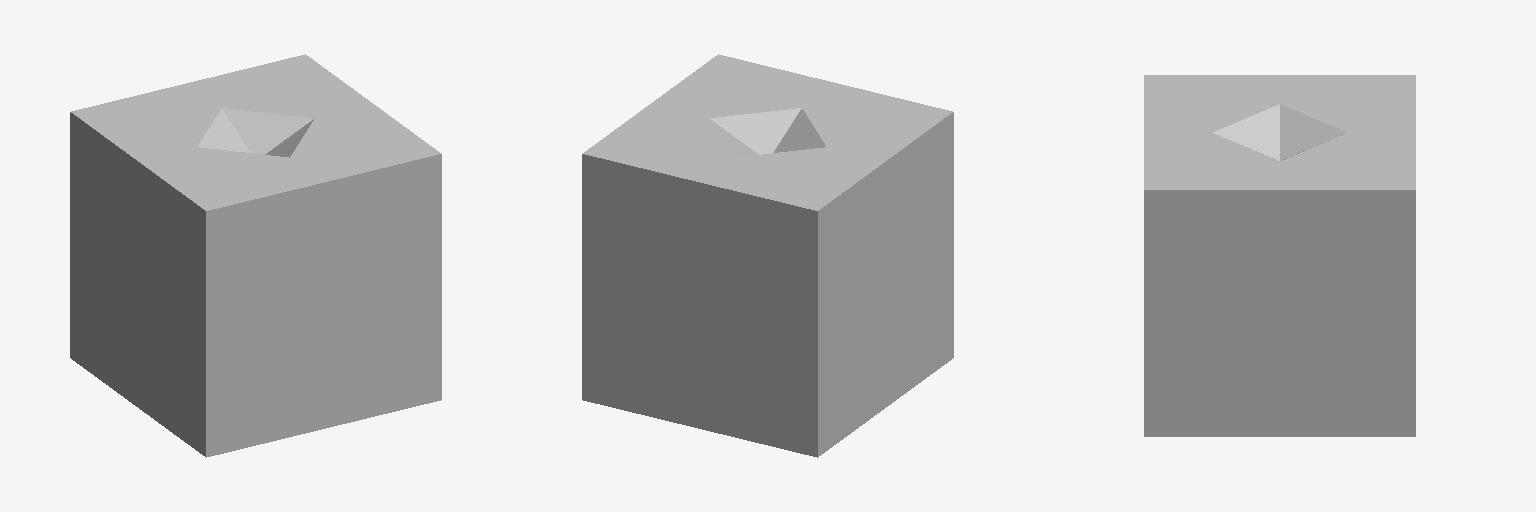
File: CubeModified.obj
3 renders of one model, left to right at view 1: azimuth 30°, elevation 25°; view 2: azimuth 150°, elevation 25°; view 3: azimuth 270°, elevation 25°, orthographic.
Visible parts, largest first — view 1: Cube; view 2: Cube; view 3: Cube.
Boxes of the visible parts, <box> form: Cube: <box>70,54,441,457</box>; Cube: <box>582,54,953,457</box>; Cube: <box>1144,75,1415,436</box>.
Size of the model in its own units: 1 by 1 by 1.